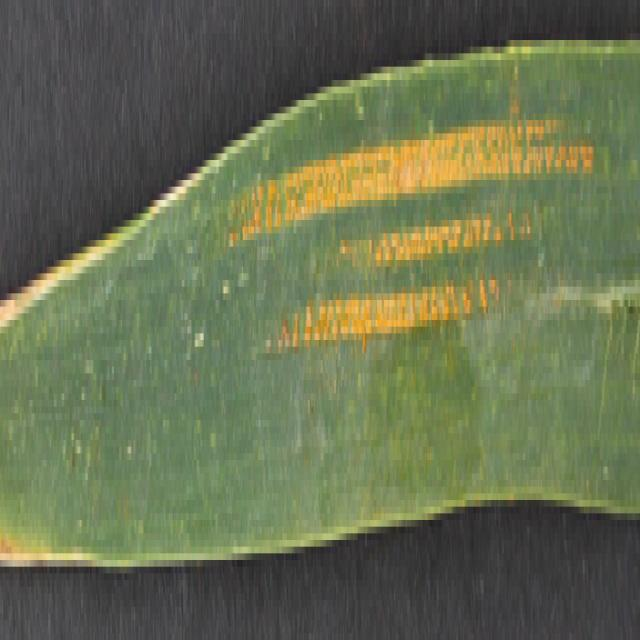leaf rust: (227, 73, 606, 380)
